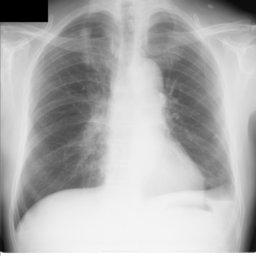left lobe: (147, 12, 232, 190)
right lobe: (15, 14, 115, 224)
